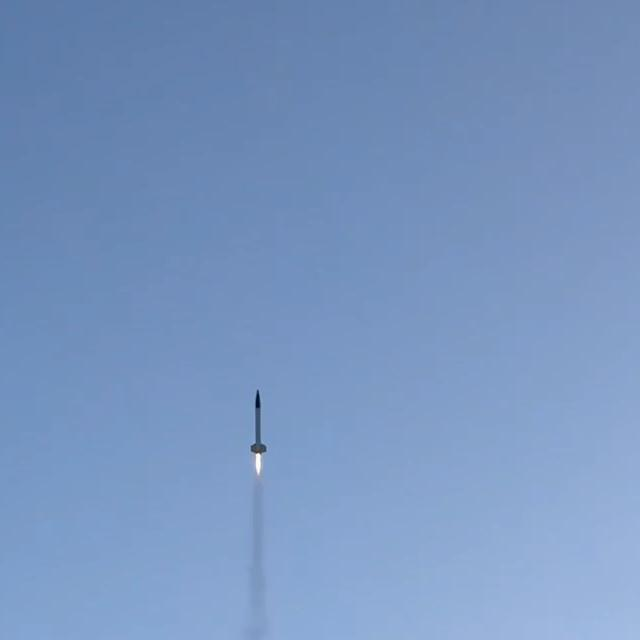rocket: (253, 389, 264, 451)
smoke_trail_with_rocket: (247, 390, 268, 640)
